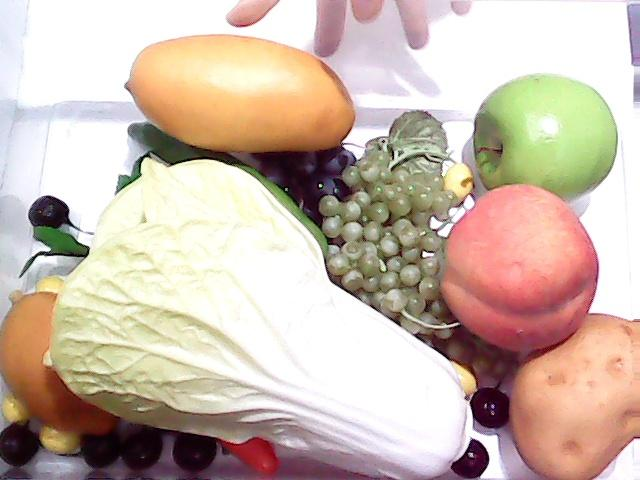apple: (469, 66, 619, 202)
carrot: (219, 424, 283, 476)
grape: (296, 140, 454, 322), (250, 141, 358, 227)
lemon: (1, 288, 115, 430)
mango: (119, 29, 357, 156)
napa cabbage: (51, 162, 472, 478)
peach: (436, 181, 602, 351)
pepper: (130, 99, 330, 273)
potato: (507, 313, 640, 479)
